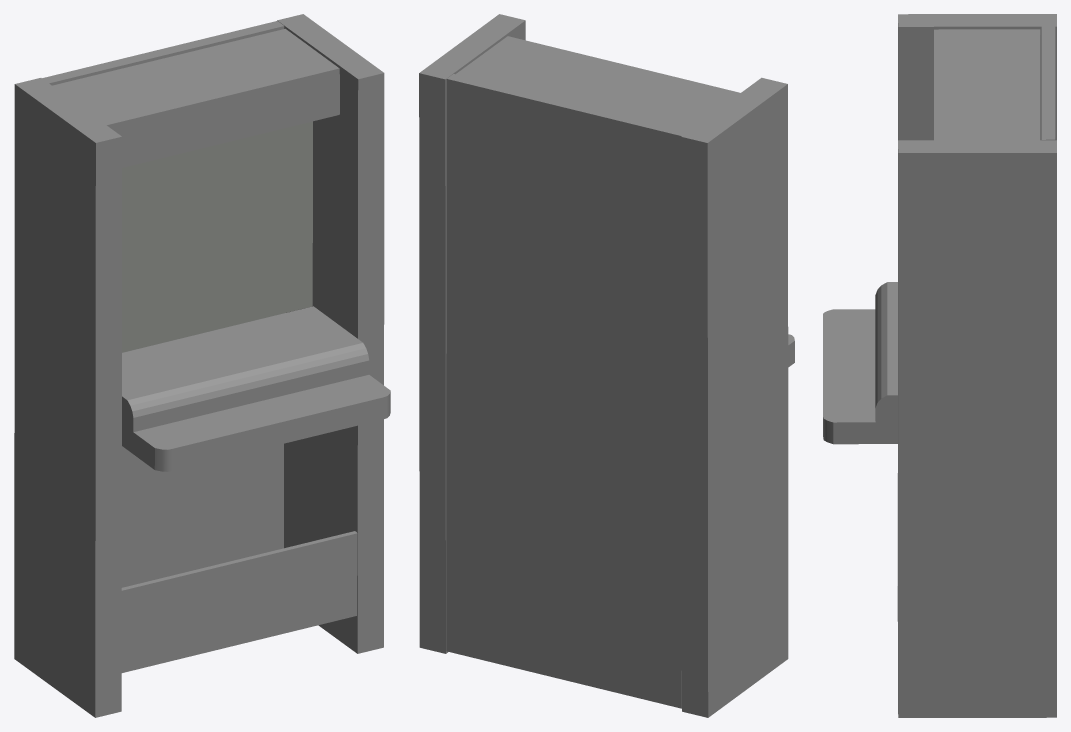
Rendered from switchboard.FBX.
3 views of the same model, side by side, from view 1: azimuth 30°, elevation 25°; view 2: azimuth 150°, elevation 25°; view 3: azimuth 270°, elevation 25° (orthographic).
Parts seen in each view (by area): view 1: table, main_board, ground_board; view 2: table; view 3: table, ground_board.
Part boxes in pixels (x1,y1,x2,y2): table: [14, 14, 390, 717]; main_board: [122, 121, 312, 352]; ground_board: [122, 306, 369, 434]; table: [419, 14, 794, 717]; table: [823, 14, 1056, 717]; ground_board: [875, 282, 897, 425].
Size of the model in its own units: 61.37 by 116 by 43.64.
